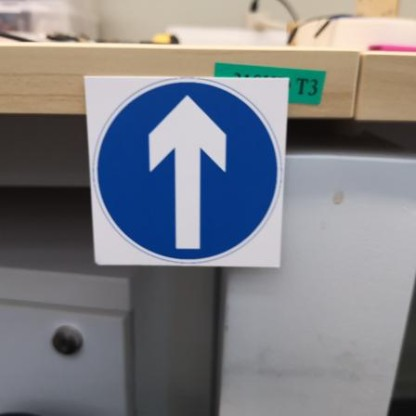forward: (80, 70, 288, 270)
